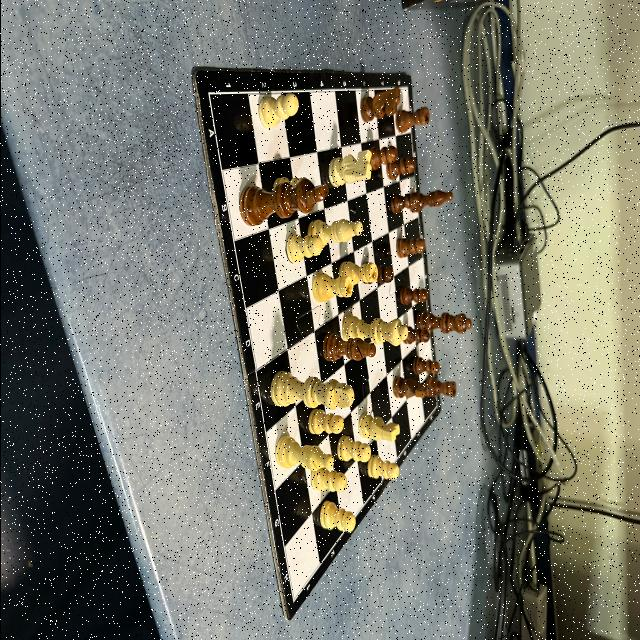Black-Bishop: (321, 333, 375, 363), (408, 189, 452, 213)
Black-King: (238, 179, 328, 227)
Black-Knight: (359, 86, 400, 124), (391, 376, 431, 400)
Black-Pawn: (367, 144, 397, 172), (388, 191, 418, 215), (385, 157, 415, 180), (395, 237, 424, 259), (398, 286, 426, 306), (411, 356, 438, 376), (402, 326, 428, 344), (376, 266, 393, 284)
Black-Queen: (414, 309, 470, 335)
Black-Rook: (394, 106, 428, 134), (424, 375, 456, 398)
White-Bishop: (274, 436, 334, 472), (306, 219, 362, 249)
White-King: (268, 370, 354, 409)
White-Knight: (328, 150, 372, 188), (356, 412, 399, 442)
White-Pawn: (258, 93, 298, 128), (318, 501, 354, 534), (284, 234, 322, 264), (307, 408, 343, 436), (336, 435, 370, 463), (309, 468, 346, 492), (366, 454, 398, 480), (271, 177, 306, 187)
White-Queen: (342, 315, 408, 347)
White-Rook: (311, 272, 353, 304), (338, 260, 378, 286)
